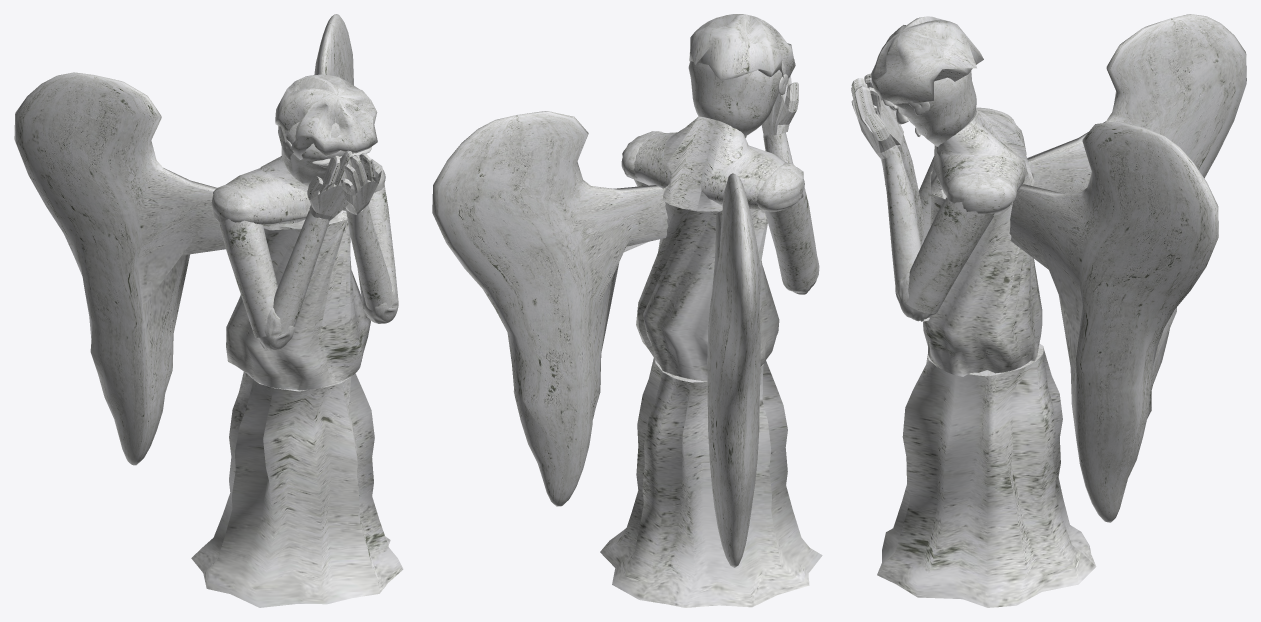
File: WeepingAngel.mb.fbx
3 views of the same model, side by side, from view 1: azimuth 30°, elevation 25°; view 2: azimuth 150°, elevation 25°; view 3: azimuth 270°, elevation 25° (orthographic). The views are drawn at different scales.
Visible parts, largest first — view 1: pasted__pSphere21, pasted__Skirt, pasted__polySurface9, pasted__pCylinder3, pasted__polySurface12, pasted__pSphere22, pasted__pCube1, pasted__pCube2; view 2: pasted__pSphere22, pasted__Skirt, pasted__pSphere21, pasted__polySurface9, pasted__pCylinder3, pasted__polySurface12, pasted__pCube1; view 3: pasted__pSphere22, pasted__Skirt, pasted__pSphere21, pasted__polySurface9, pasted__pCylinder3, pasted__polySurface12, pasted__pCube2, pasted__pCube1.
Boxes of the visible parts, bbox=[...] form: pasted__pSphere21: bbox=[14, 72, 225, 465]; pasted__Skirt: bbox=[191, 372, 403, 607]; pasted__polySurface9: bbox=[211, 156, 398, 350]; pasted__pCylinder3: bbox=[226, 219, 370, 390]; pasted__polySurface12: bbox=[275, 74, 377, 186]; pasted__pSphere22: bbox=[314, 14, 353, 251]; pasted__pCube1: bbox=[307, 150, 360, 220]; pasted__pCube2: bbox=[341, 153, 381, 214]; pasted__pSphere22: bbox=[432, 111, 668, 506]; pasted__Skirt: bbox=[600, 358, 822, 607]; pasted__pSphere21: bbox=[707, 173, 760, 567]; pasted__polySurface9: bbox=[621, 116, 819, 294]; pasted__pCylinder3: bbox=[636, 202, 779, 381]; pasted__polySurface12: bbox=[688, 14, 795, 136]; pasted__pCube1: bbox=[761, 75, 798, 136]; pasted__pSphere22: bbox=[1009, 121, 1218, 522]; pasted__Skirt: bbox=[877, 343, 1096, 607]; pasted__pSphere21: bbox=[1027, 14, 1246, 389]; pasted__polySurface9: bbox=[880, 107, 1034, 321]; pasted__pCylinder3: bbox=[923, 171, 1042, 376]; pasted__polySurface12: bbox=[871, 16, 983, 146]; pasted__pCube2: bbox=[851, 78, 900, 158]; pasted__pCube1: bbox=[864, 73, 903, 145].
Bounding box in the file's own units: 9.34 × 14.1 × 9.45.
